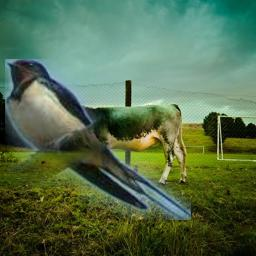Swallow: (5, 59, 191, 220)
